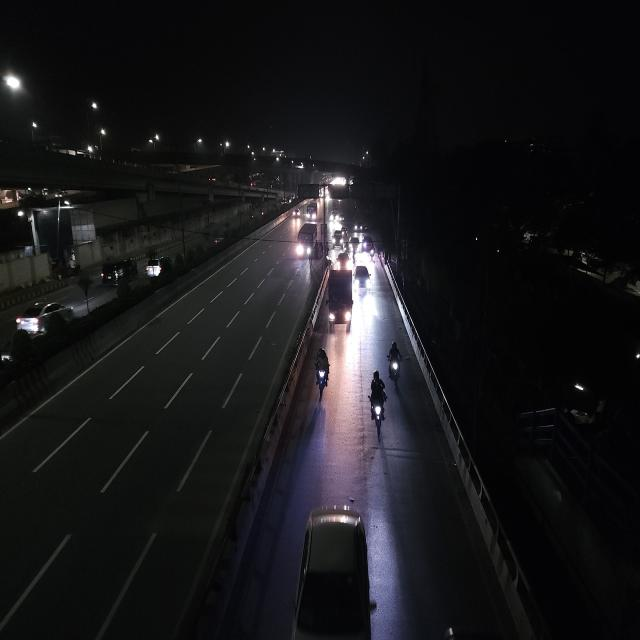bus: (296, 222, 318, 260), (305, 199, 319, 222)
car: (291, 502, 376, 640), (13, 298, 77, 336), (99, 255, 139, 287), (143, 252, 173, 280), (352, 262, 372, 296), (335, 249, 351, 274), (332, 228, 346, 248), (348, 235, 362, 254), (354, 223, 364, 236), (292, 207, 300, 222)
motorcycle: (367, 366, 389, 441), (312, 346, 332, 399), (385, 338, 403, 390), (368, 243, 376, 264)
truck: (324, 270, 356, 332), (305, 200, 319, 222)
